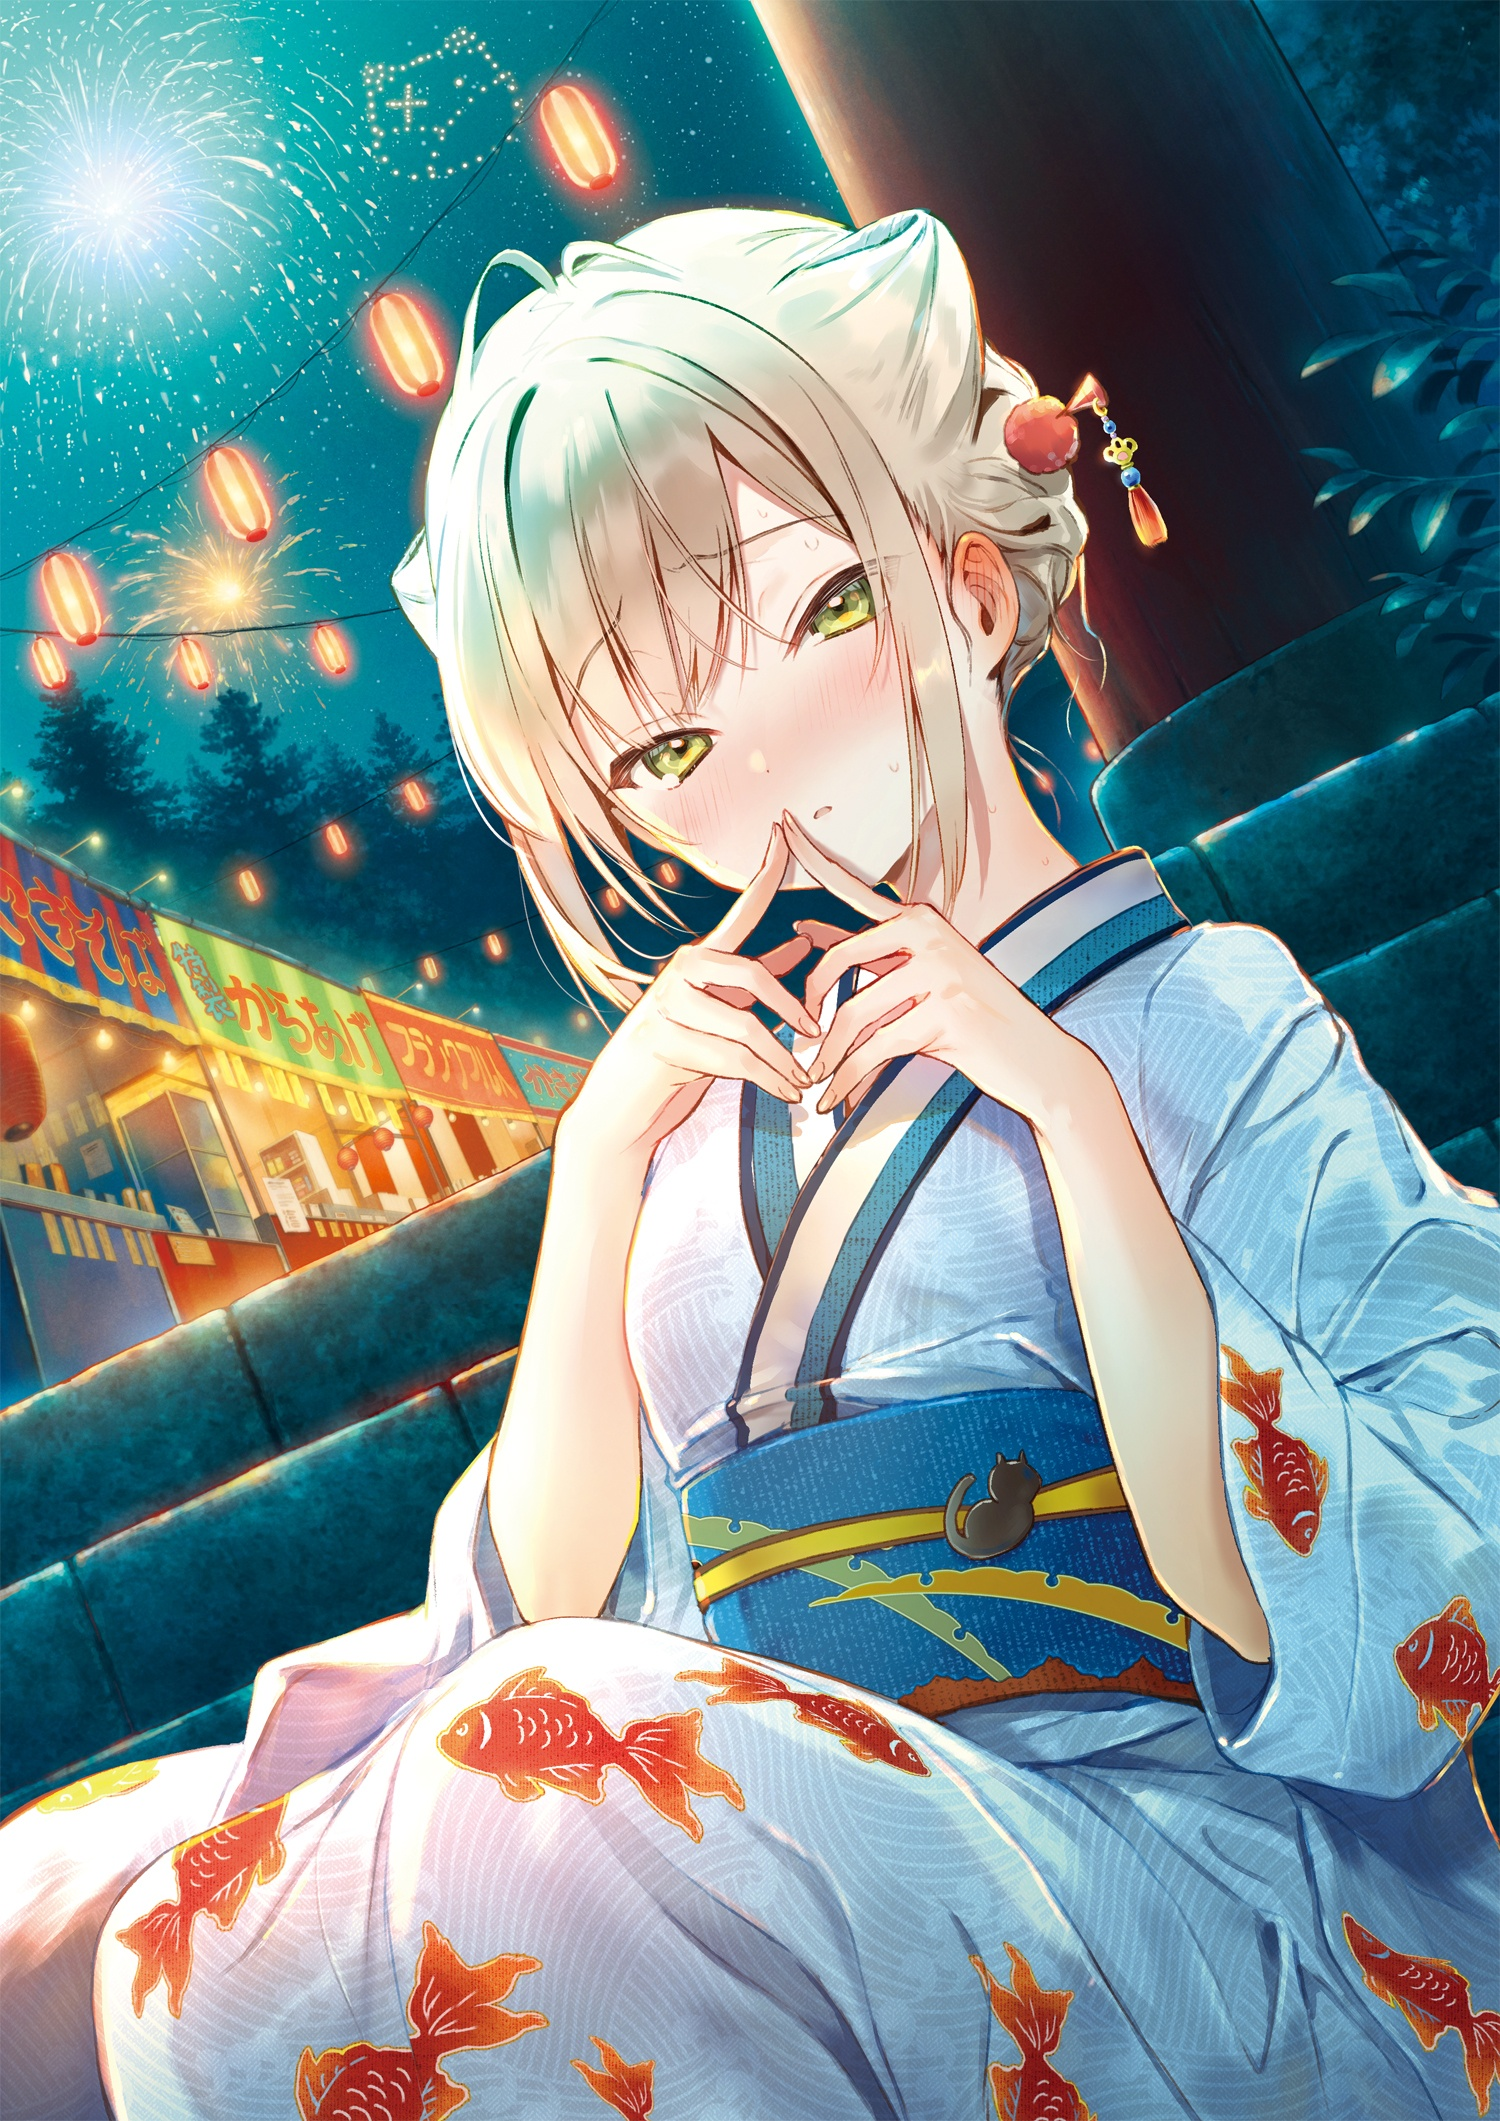纸片人正脸: (397, 185, 1078, 944)
